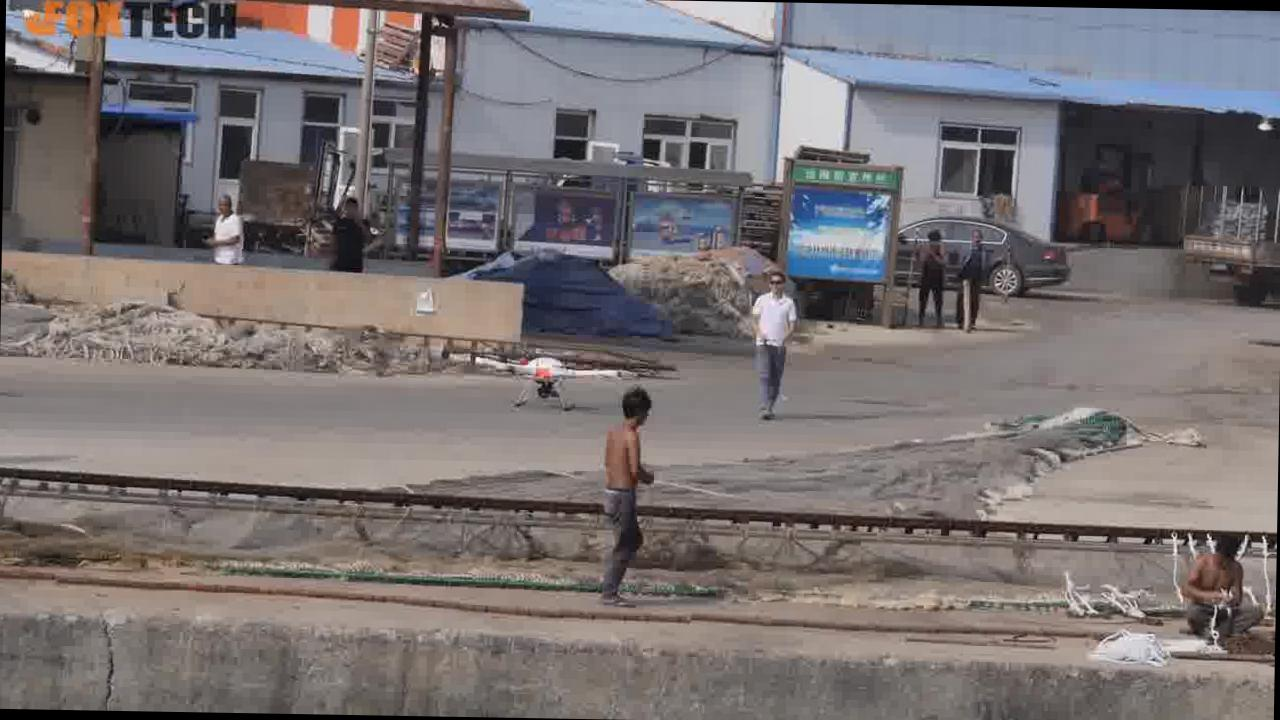drone: (461, 348, 631, 406)
